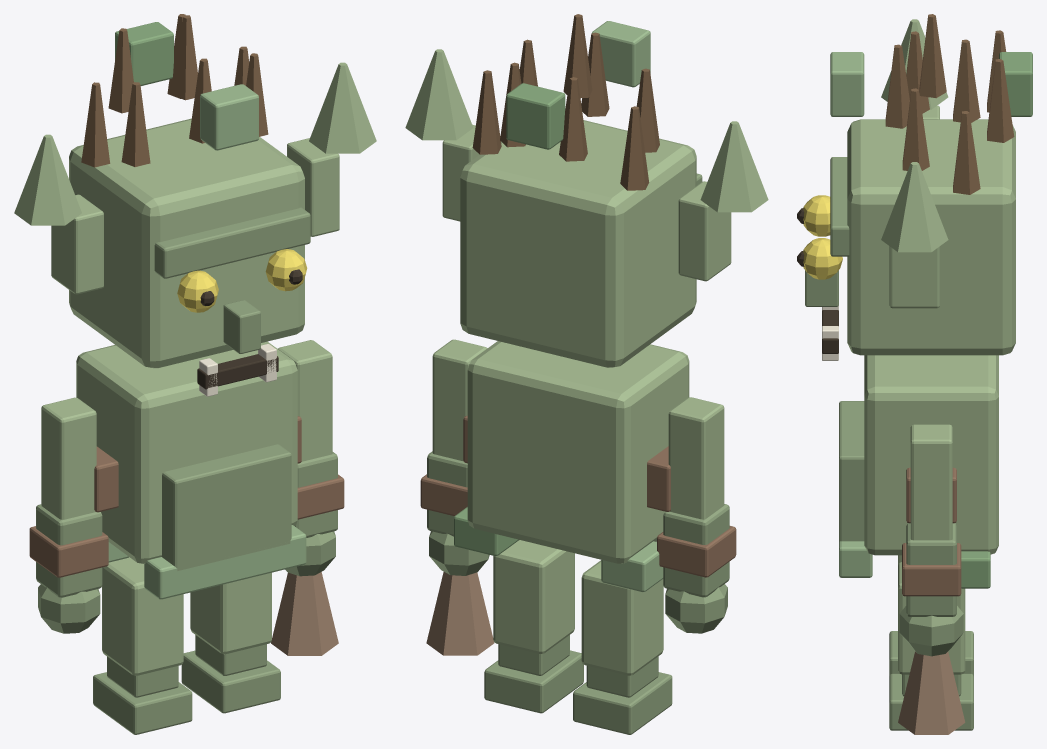
The model's file is bramble_imp_v3.glb.
The picture shows the model from 3 angles, left to right: view 1: azimuth 30°, elevation 25°; view 2: azimuth 150°, elevation 25°; view 3: azimuth 270°, elevation 25°; orthographic projection.
Parts seen in each view (by area): view 1: Head_Skull, Body_Torso, Body_Belly, LegL_Thigh, ArmL_Upper, Brow_Ridge, LegR_Thigh, Leaf_Belt_F, Thorn_Weapon, ArmR_Upper, Ear_L, LegL_Foot (+25 smaller); view 2: Head_Skull, Body_Torso, LegR_Thigh, LegL_Thigh, ArmL_Upper, Thorn_Weapon, ArmR_Upper, Ear_L, LegL_Foot, LegR_Foot, EarTip_R, EarTip_L (+22 smaller); view 3: Head_Skull, Body_Torso, ArmR_Upper, Thorn_Weapon, Body_Belly, EarTip_R, Ear_R, ArmR_Forearm, Crown_Leaf_F, ArmR_Hand, ArmR_Vine, Brow_Ridge (+20 smaller).
Boxes of the visible parts, x1,y1,x2,y2 form: Head_Skull: [69, 118, 304, 368]; Body_Torso: [76, 341, 297, 563]; Body_Belly: [161, 444, 291, 570]; LegL_Thigh: [102, 557, 183, 675]; ArmL_Upper: [41, 397, 96, 519]; Brow_Ridge: [154, 207, 310, 278]; LegR_Thigh: [190, 572, 271, 654]; Leaf_Belt_F: [144, 525, 306, 599]; Thorn_Weapon: [271, 572, 338, 655]; ArmR_Upper: [278, 340, 332, 461]; Ear_L: [51, 194, 103, 294]; LegL_Foot: [93, 672, 192, 734]; Head_Skull: [460, 120, 696, 367]; Body_Torso: [467, 341, 689, 563]; LegR_Thigh: [493, 540, 574, 653]; LegL_Thigh: [581, 560, 663, 675]; ArmL_Upper: [668, 397, 724, 519]; Thorn_Weapon: [426, 572, 494, 655]; ArmR_Upper: [432, 339, 487, 461]; Ear_L: [678, 181, 731, 281]; LegL_Foot: [573, 672, 672, 734]; LegR_Foot: [484, 650, 583, 713]; EarTip_R: [405, 49, 473, 140]; EarTip_L: [700, 121, 768, 212]; Head_Skull: [847, 119, 1015, 355]; Body_Torso: [864, 355, 998, 555]; ArmR_Upper: [910, 424, 952, 540]; Thorn_Weapon: [898, 651, 965, 734]; Body_Belly: [839, 401, 864, 541]; EarTip_R: [881, 162, 948, 252]; Ear_R: [889, 246, 939, 308]; ArmR_Forearm: [906, 523, 956, 616]; Crown_Leaf_F: [830, 52, 864, 116]; ArmR_Hand: [899, 606, 963, 656]; ArmR_Vine: [902, 543, 961, 596]; Brow_Ridge: [830, 157, 849, 256].
Bounding box in the file's own units: 0.352 × 0.6675 × 0.2096.
